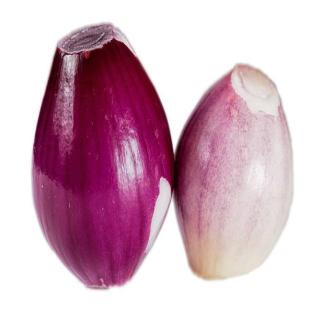Bawang Merah: (29, 18, 177, 292), (173, 62, 297, 287)
